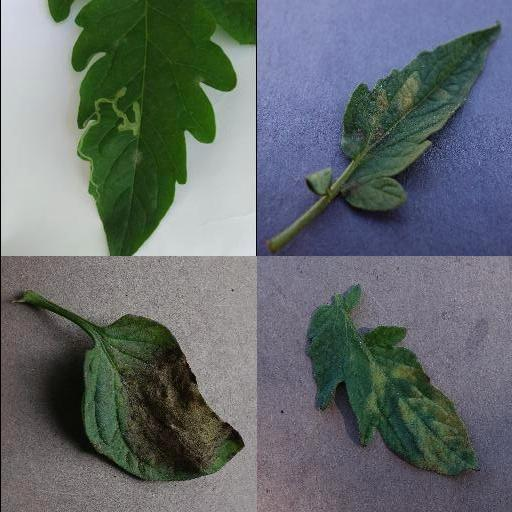Late Blight: (80, 315, 244, 485)
Leaf Miner: (70, 0, 236, 256)
Leaf Mold: (305, 287, 483, 475), (337, 26, 503, 210)
